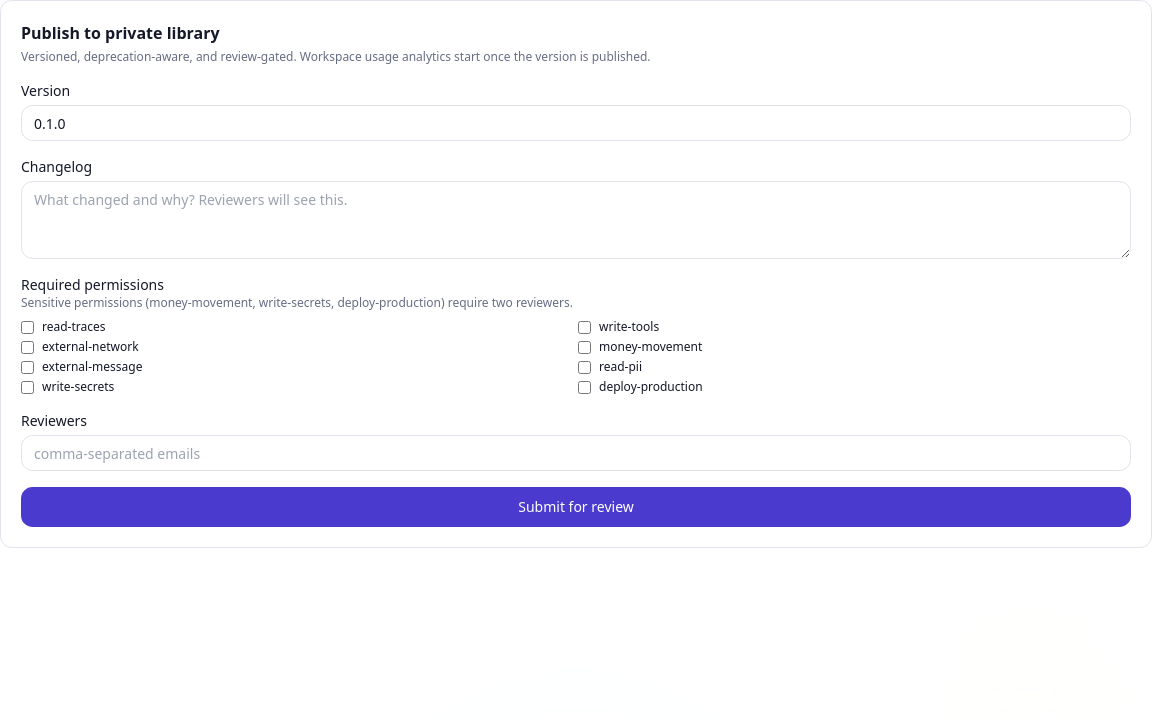
Test: PrivateSkillPublisher › accepts a clean submission and reports in-review lifecycle
Replace the text in the field with test id "publisher-version" with "0.4.0" at (576,123), box [21,105,1131,141]
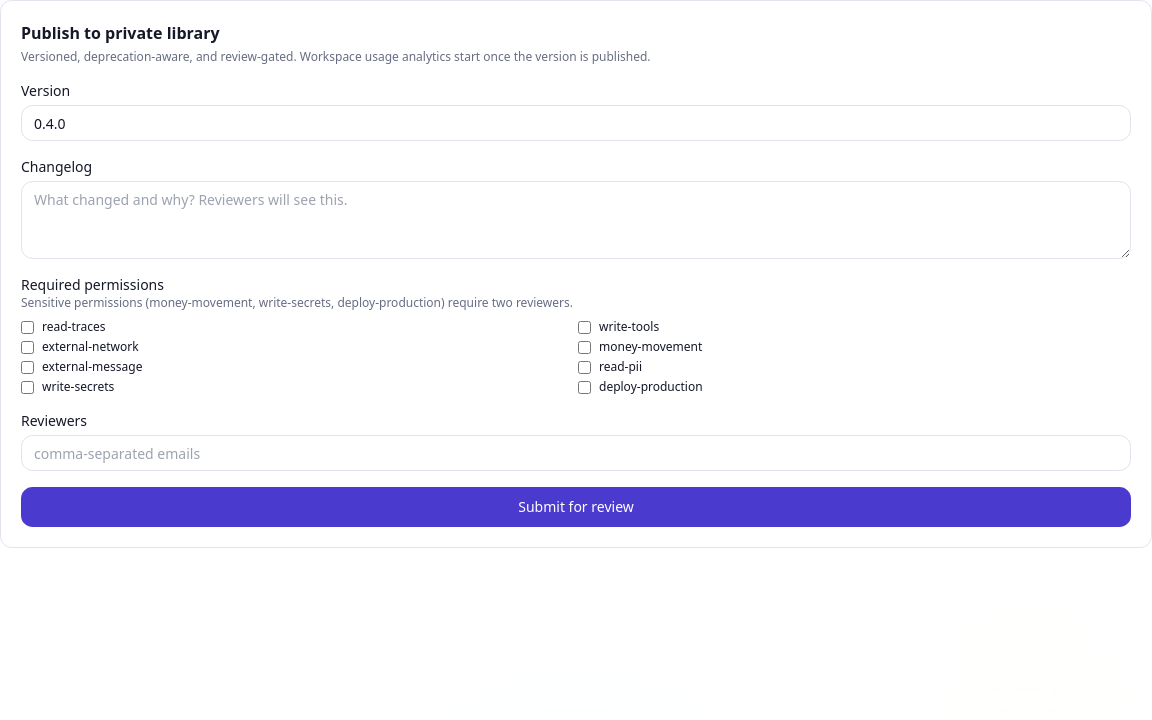
Type "Adds Mexican phone format to redactor." into the text box with test id "publisher-changelog".
click(576, 220); type("Adds Mexican phone format to redactor.")  # box [21,181,1131,259]
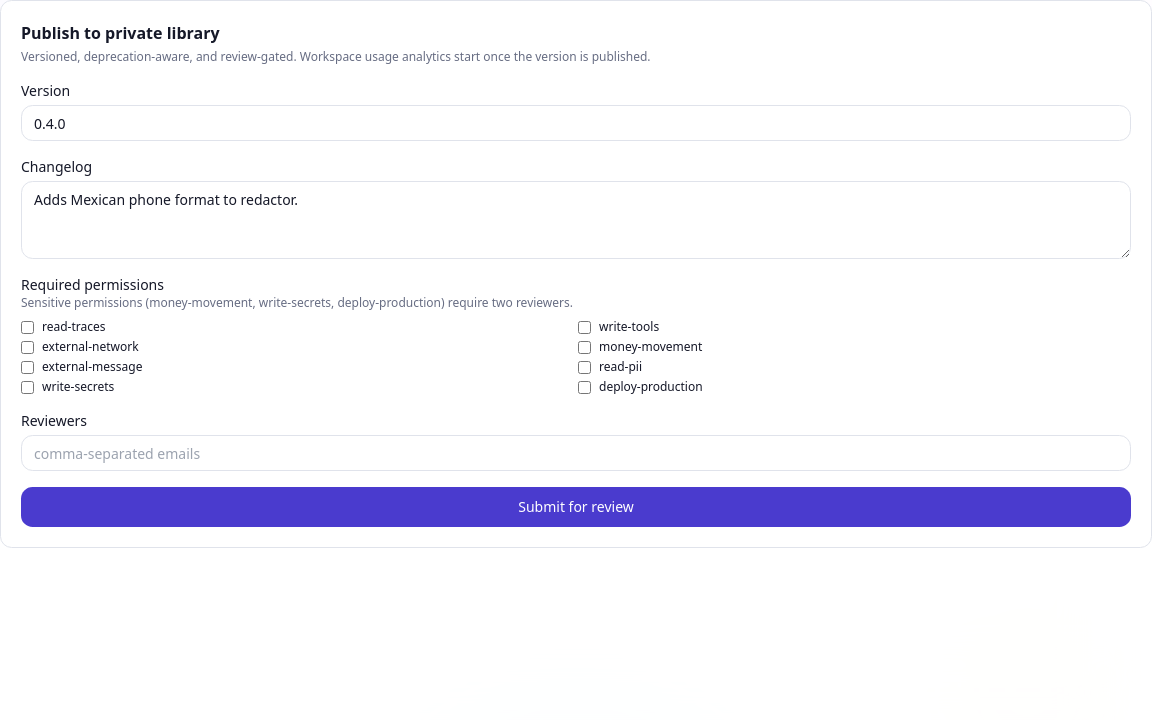
Click the checkbox with test id "publisher-permission-read-pii".
click(584, 367)  # box [578,360,591,374]
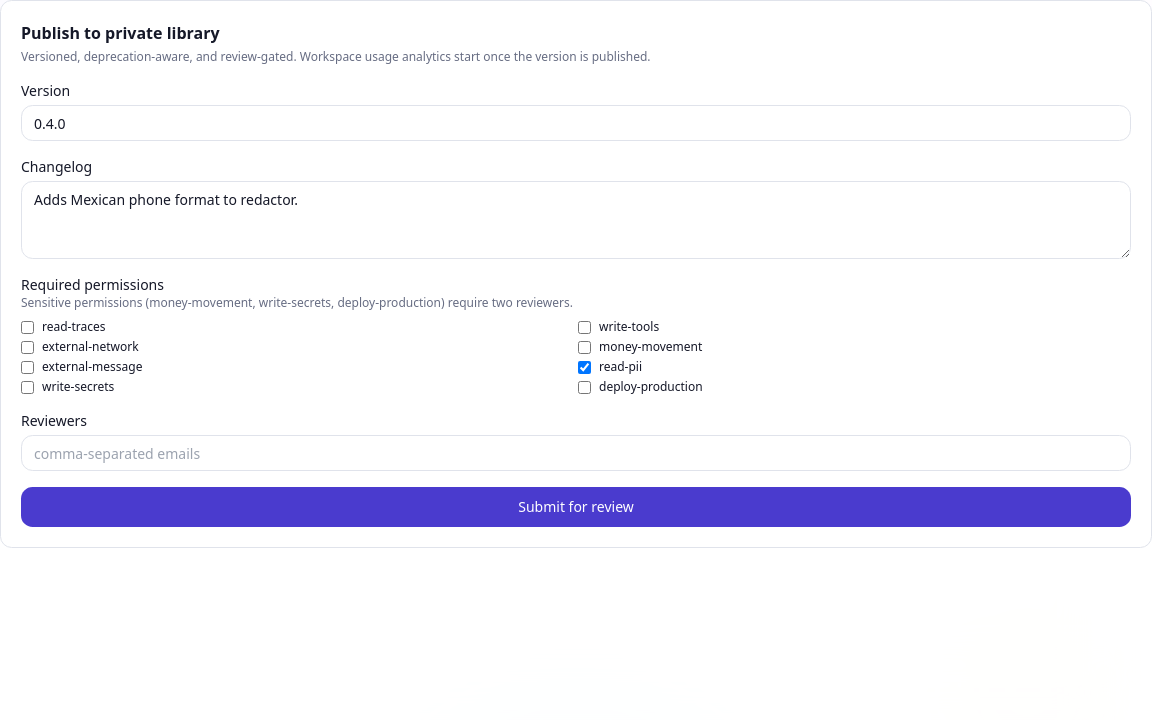
Type "sec@a" into the field with test id "publisher-reviewers".
click(576, 453); type("sec@a")  # box [21,435,1131,471]
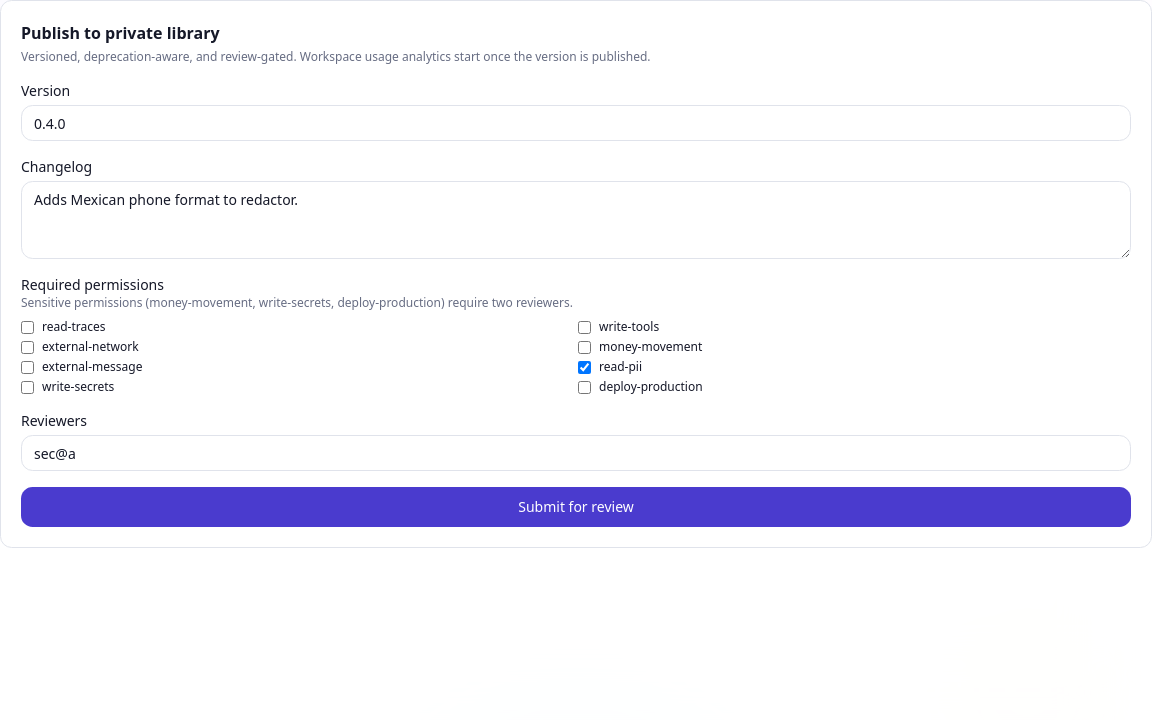
Click the button with test id "publisher-submit".
click(576, 507)  # box [21,487,1131,527]
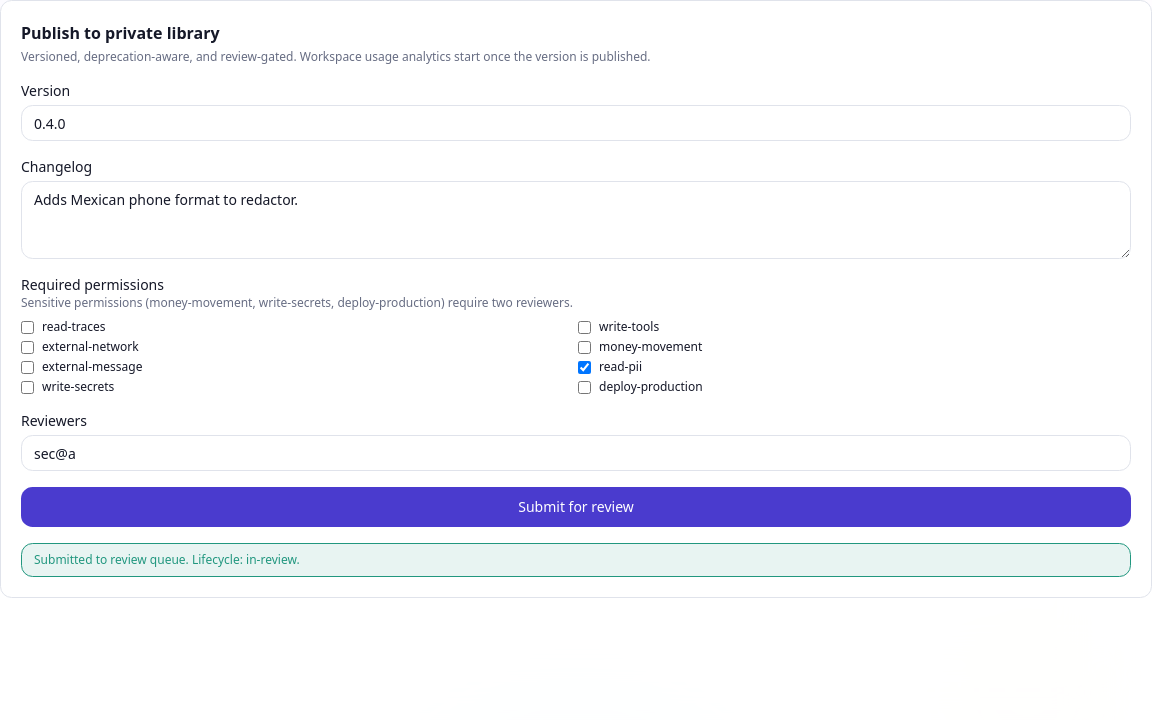
Expected: the message with test id "publisher-result" shows "in-review", [246,551,296,568]
